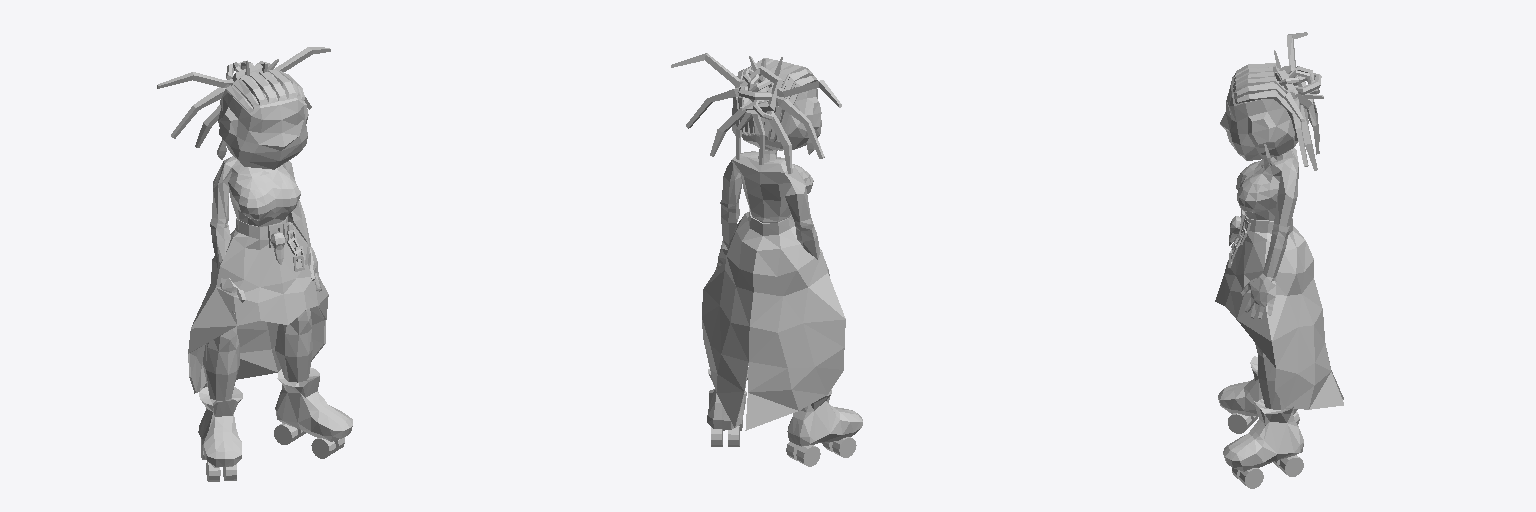
The model's file is bruja_000052.obj.
3 renders of one model, left to right at view 1: azimuth 30°, elevation 25°; view 2: azimuth 150°, elevation 25°; view 3: azimuth 270°, elevation 25°, orthographic.
Visible parts, largest first — view 1: Bruja_Plane.001; view 2: Bruja_Plane.001; view 3: Bruja_Plane.001.
Part boxes in pixels (bbox=[...]): Bruja_Plane.001: bbox=[157, 47, 352, 481]; Bruja_Plane.001: bbox=[671, 53, 862, 466]; Bruja_Plane.001: bbox=[1215, 32, 1343, 488].
Size of the model in its own units: 7.47 by 16.58 by 4.87.